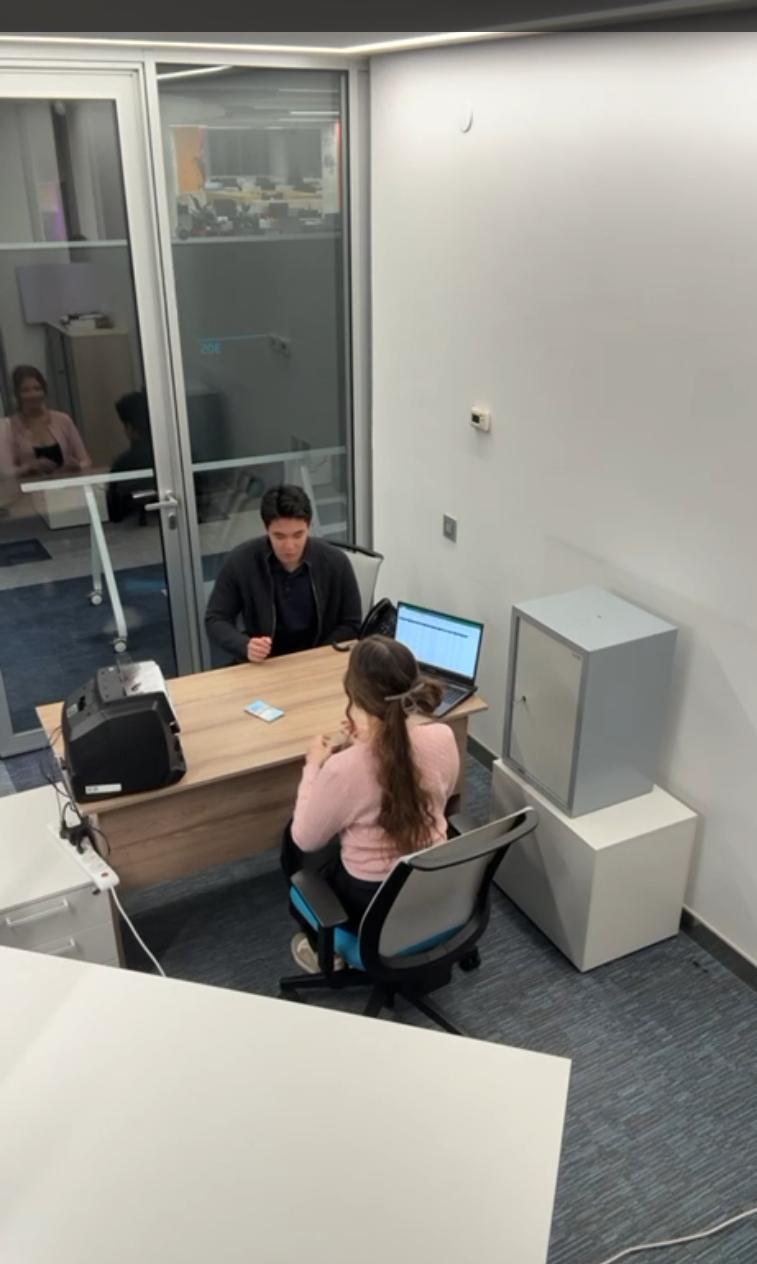cash_stack: (243, 697, 284, 723)
